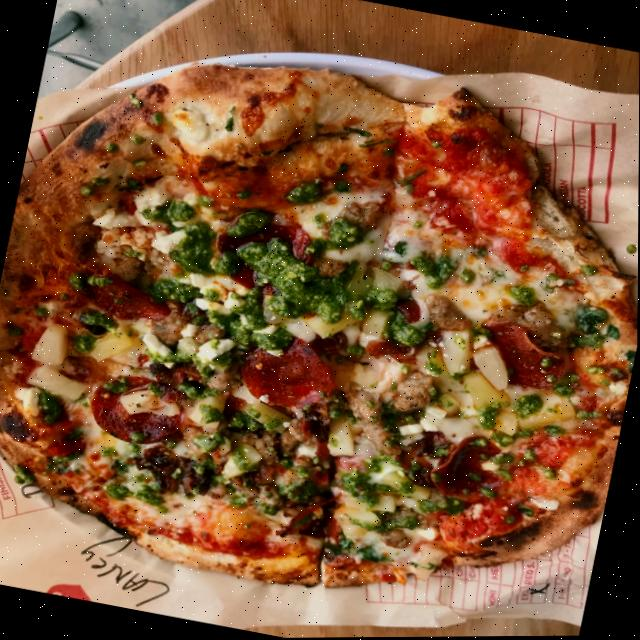pepperoni: (204, 206, 315, 301), (237, 328, 346, 417), (82, 368, 189, 453), (472, 317, 572, 395), (70, 259, 176, 329), (426, 428, 509, 508), (282, 485, 351, 548), (294, 415, 335, 461)
pizza: (0, 1, 640, 640)
